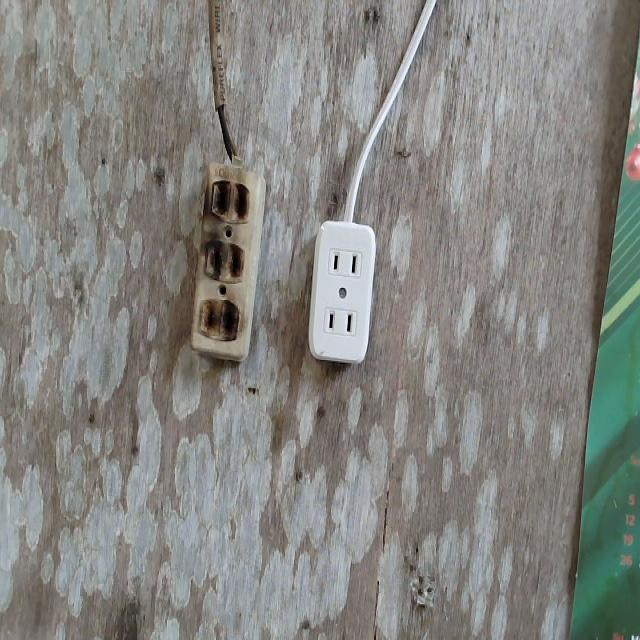-: (196, 175, 250, 344)
